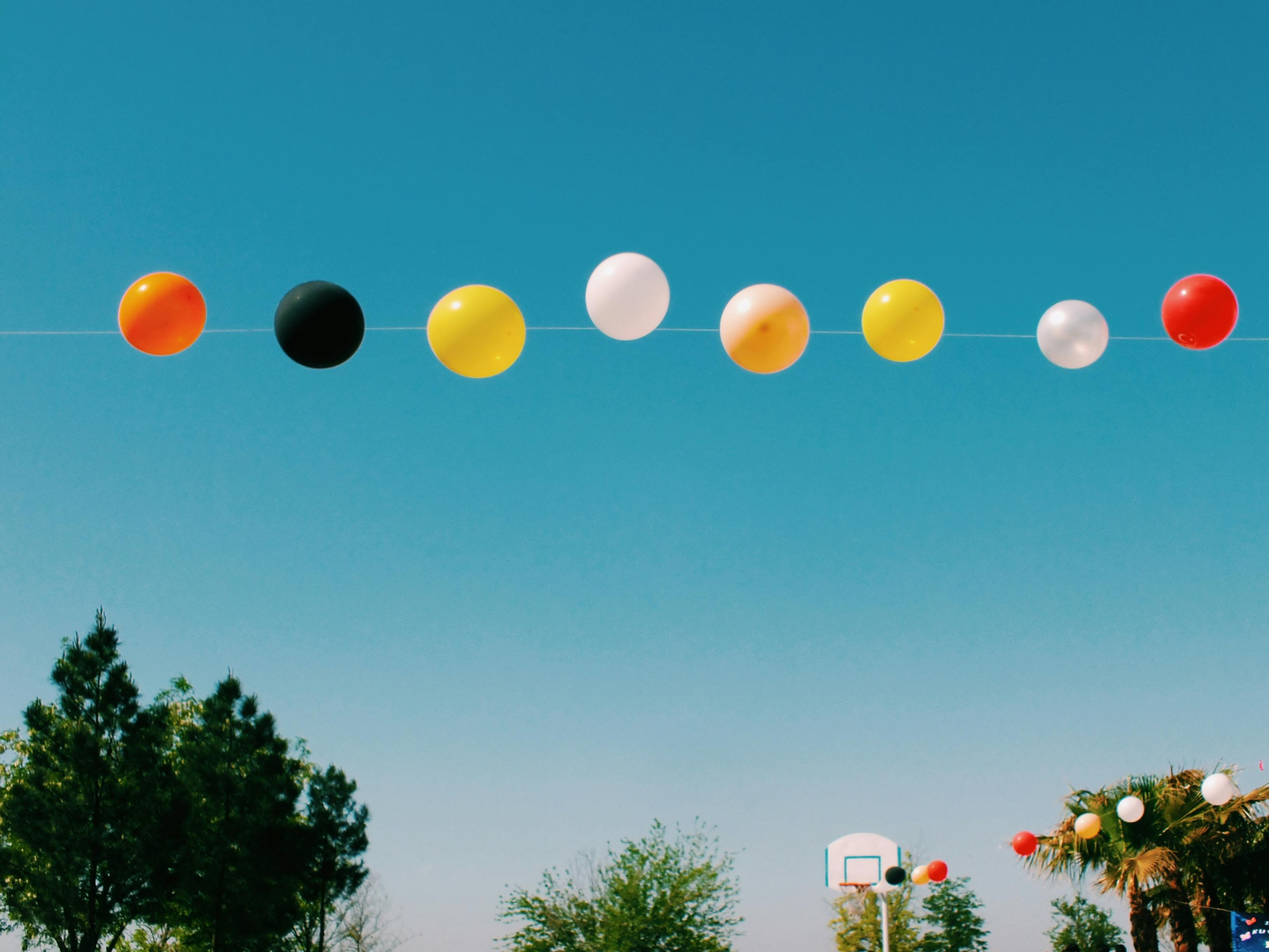balloon: (427, 285, 525, 378), (720, 284, 809, 373), (274, 281, 364, 368), (586, 252, 669, 340), (119, 273, 206, 355), (862, 279, 944, 361), (1162, 275, 1238, 350), (1037, 300, 1108, 369), (1201, 772, 1239, 806), (914, 859, 948, 884), (1117, 795, 1144, 823), (1074, 812, 1101, 839), (1012, 831, 1037, 856), (884, 865, 907, 886), (911, 865, 929, 885)
